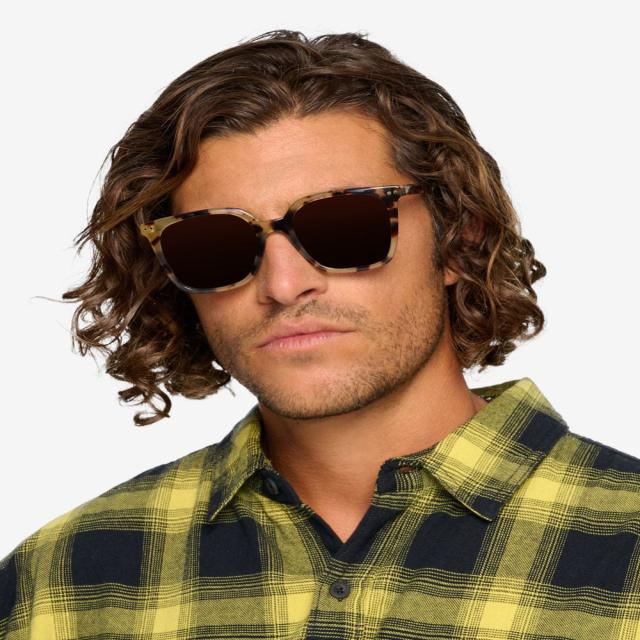2_gafas: (136, 182, 430, 294)
